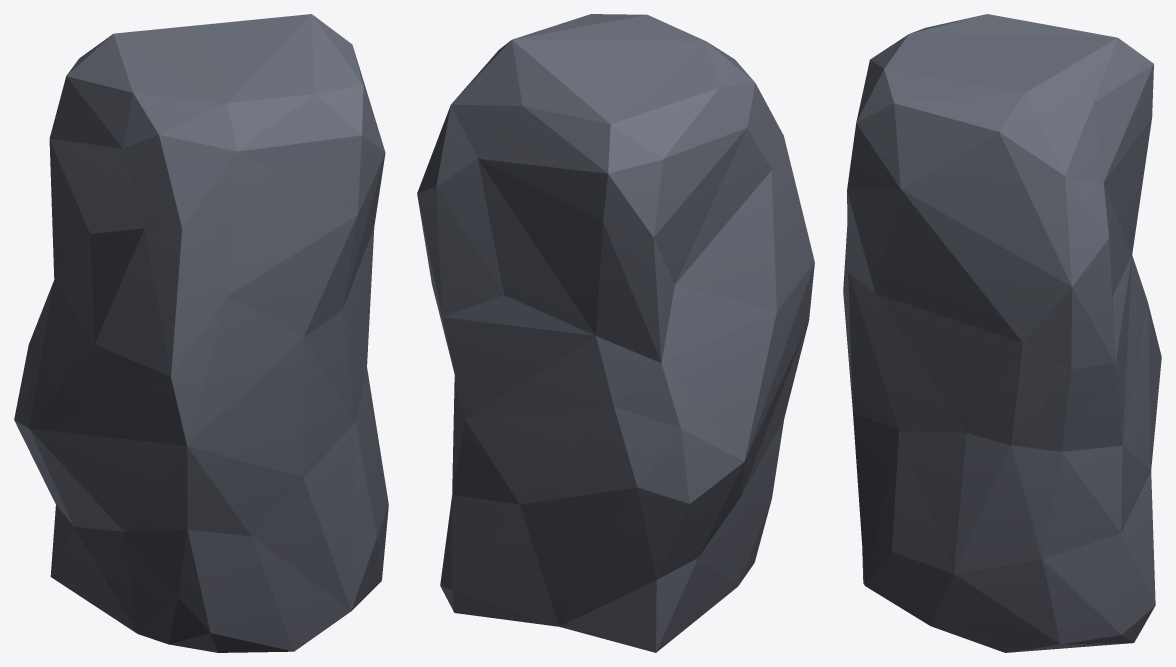
Rendered from BigRock_02.fbx.
3 renders of one model, left to right at view 1: azimuth 30°, elevation 25°; view 2: azimuth 150°, elevation 25°; view 3: azimuth 270°, elevation 25°, orthographic. The views are drawn at different scales.
Parts seen in each view (by area): view 1: BigRock_02; view 2: BigRock_02; view 3: BigRock_02.
Part boxes in pixels (x1,y1,x2,y2): BigRock_02: (14,14,388,652); BigRock_02: (417,14,814,652); BigRock_02: (843,14,1161,652).
Bounding box in the file's own units: 1.78 × 2.89 × 1.48.
